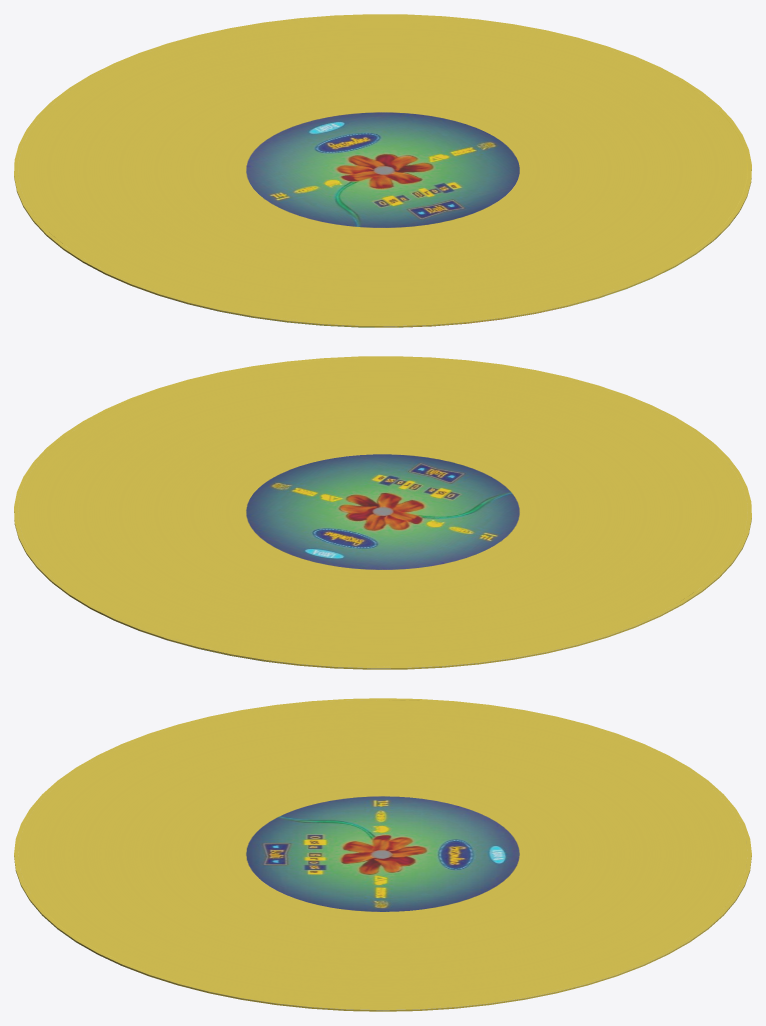
The model's file is Vinile.glb.
3 renders of one model, top to bottom at view 1: azimuth 30°, elevation 25°; view 2: azimuth 150°, elevation 25°; view 3: azimuth 270°, elevation 25°, orthographic.
Visible parts, largest first — view 1: Cylinder; view 2: Cylinder; view 3: Cylinder.
Boxes of the visible parts, box(x1,y1,x2,y2) form: Cylinder: box(14, 14, 751, 327); Cylinder: box(14, 356, 751, 669); Cylinder: box(14, 698, 751, 1011).
Size of the model in its own units: 2 by 0.005 by 2.
Materials: 1 (1 with a texture image).
